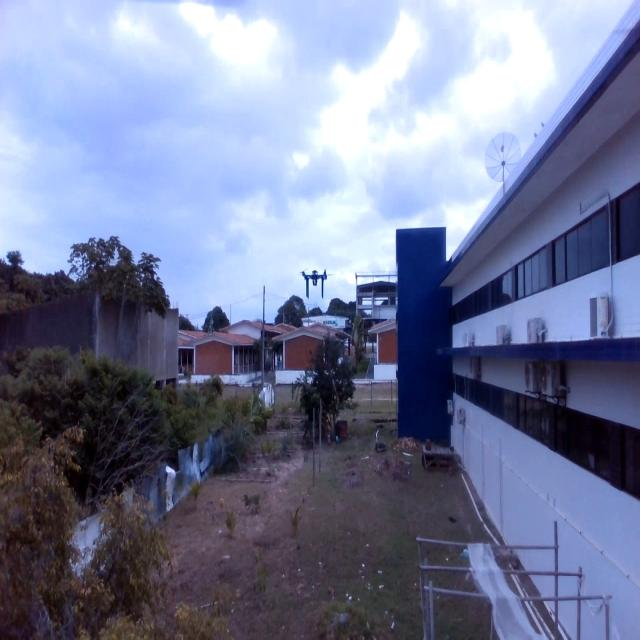-uav-: (298, 258, 336, 311)
